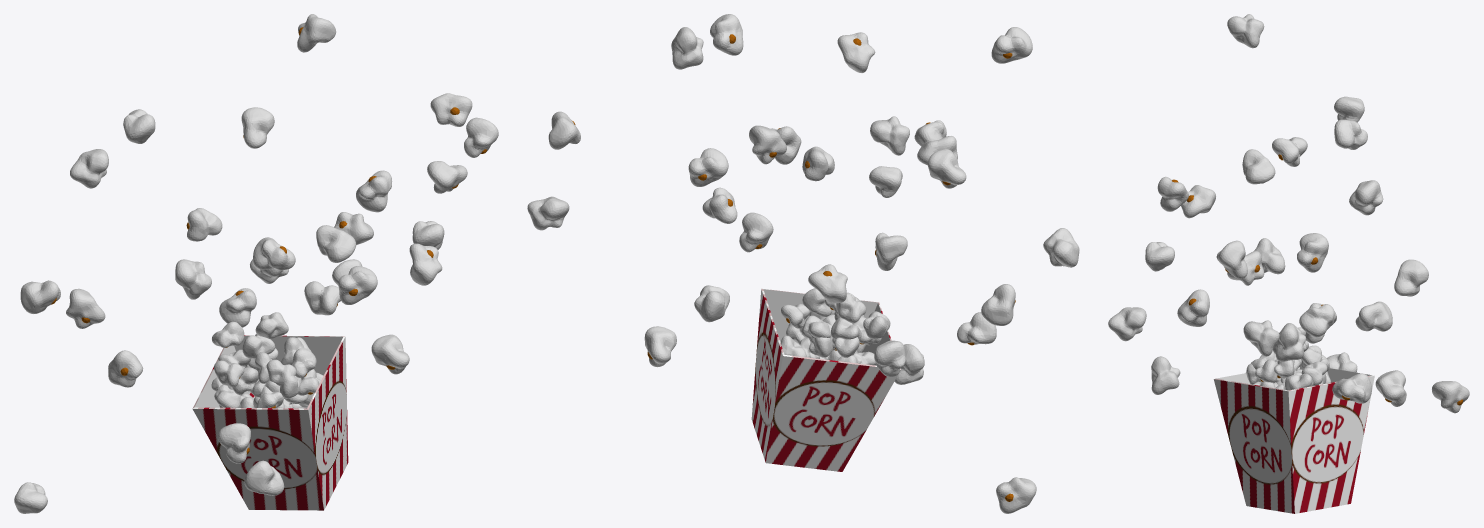
File: popcorns.fbx
3 views of the same model, side by side, from view 1: azimuth 30°, elevation 25°; view 2: azimuth 150°, elevation 25°; view 3: azimuth 270°, elevation 25° (orthographic). The views are drawn at different scales.
Parts seen in each view (by area): view 1: Popcorn_1_2_2, Cube; view 2: Popcorn_1_2_2, Cube; view 3: Popcorn_1_2_2, Cube.
Part boxes in pixels (x1=…): Popcorn_1_2_2: x1=14, y1=14, x2=498, y2=513; Cube: x1=192, y1=335, x2=348, y2=510; Popcorn_1_2_2: x1=527, y1=14, x2=1079, y2=513; Cube: x1=751, y1=288, x2=900, y2=471; Popcorn_1_2_2: x1=1108, y1=14, x2=1469, y2=413; Cube: x1=1213, y1=364, x2=1374, y2=513.
Size of the model in its own units: 3572 by 3121 by 2451.
Materials: 3 (1 with a texture image).
